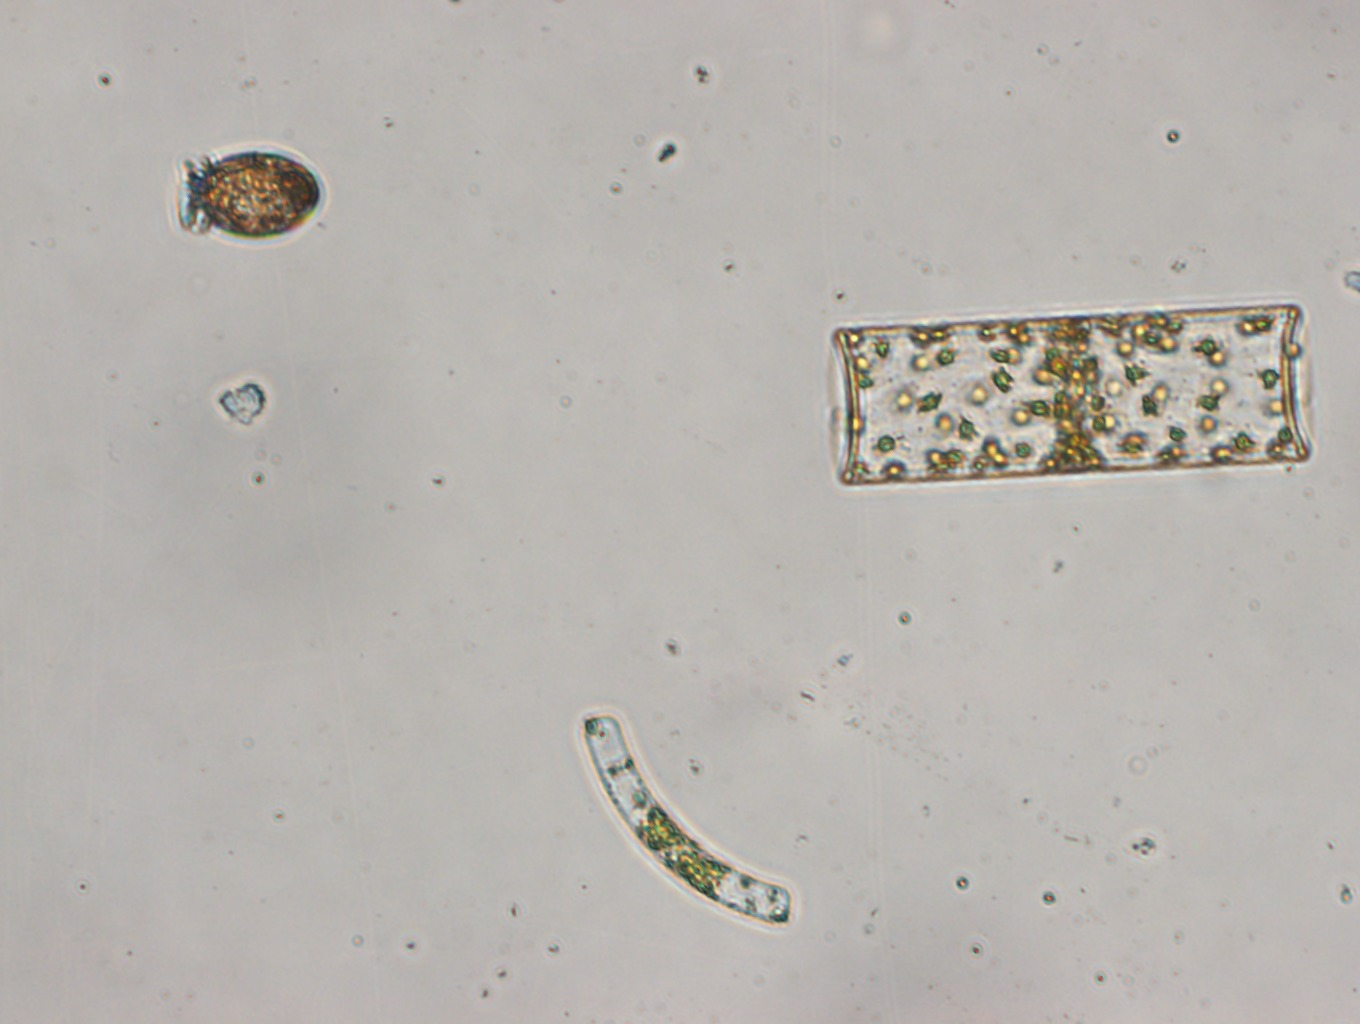guinardia flaccida: (824, 299, 1314, 486)
